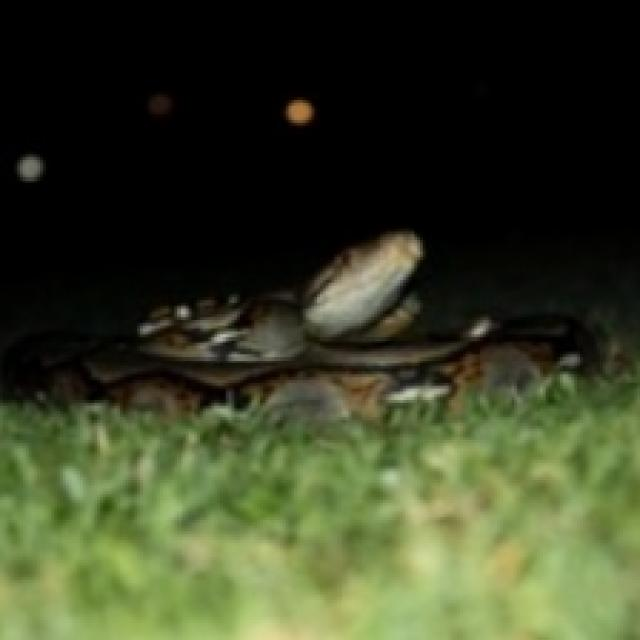reticulated python: (3, 229, 594, 417)
